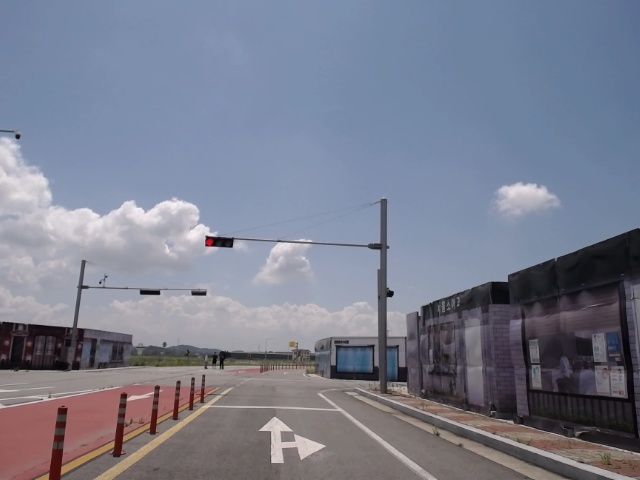red_3: (205, 236, 235, 248)
